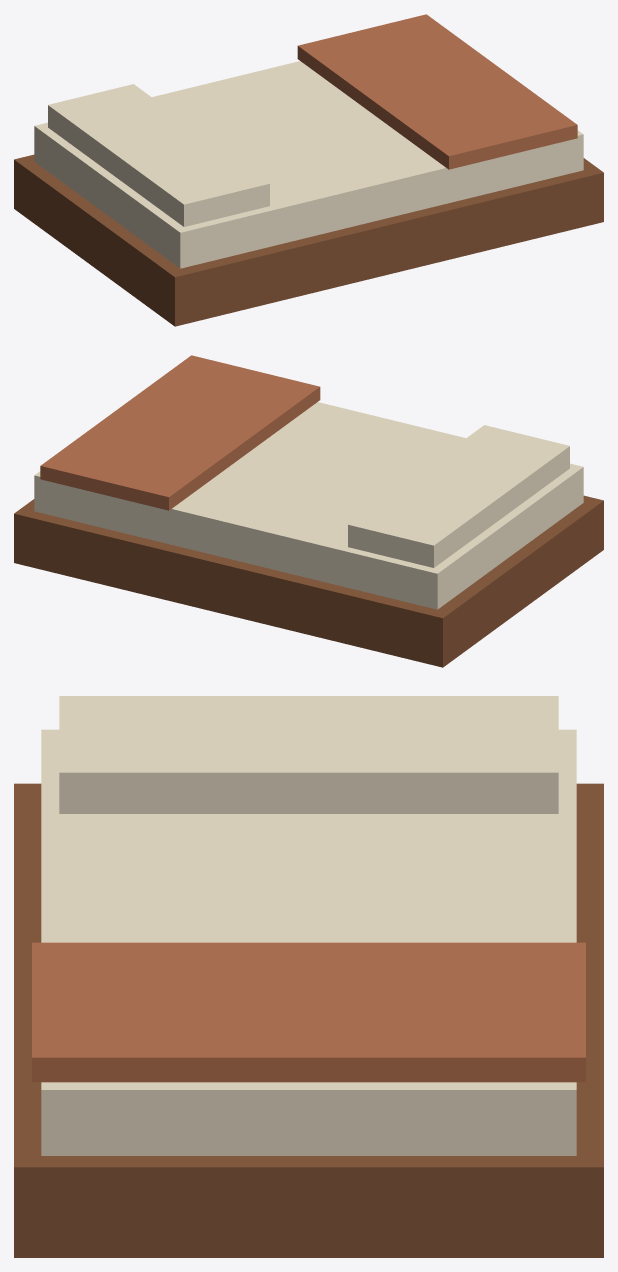
File: bed.glb
3 renders of one model, top to bottom at view 1: azimuth 30°, elevation 25°; view 2: azimuth 150°, elevation 25°; view 3: azimuth 270°, elevation 25°, orthographic. The views are drawn at different scales.
Parts seen in each view (by area): view 1: bed-col; view 2: bed-col; view 3: bed-col.
Part boxes in pixels (<box>): bed-col: <box>14,14,603,326</box>; bed-col: <box>14,355,603,667</box>; bed-col: <box>14,696,603,1257</box>.
Bounding box in the file's own units: 2 × 0.48 × 1.3.
